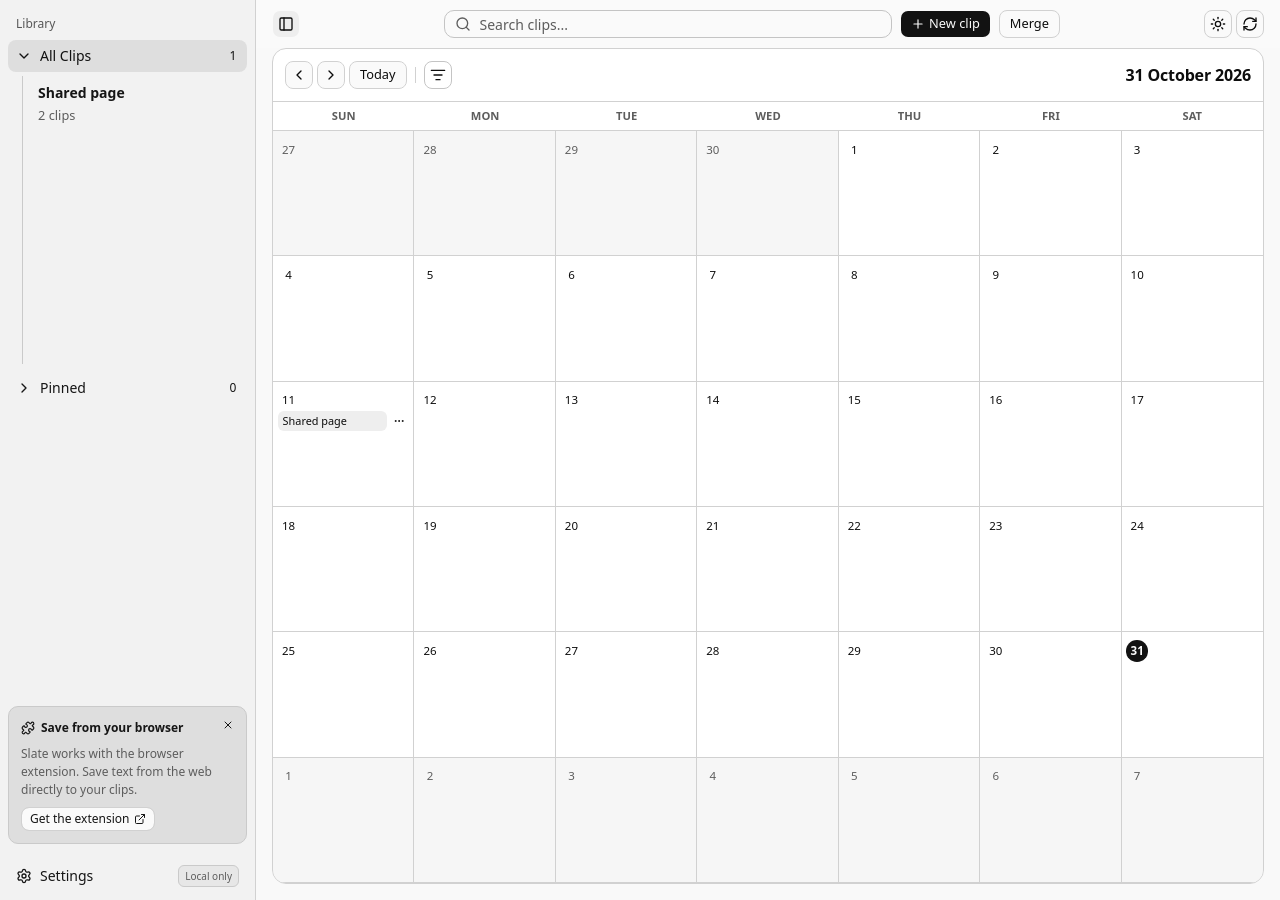
Test: member Edit reuses the full dialog and preserves group identity and title
Click the button with aria-label "Open Shared page". click: click(332, 421)
box: [278,411,387,431]
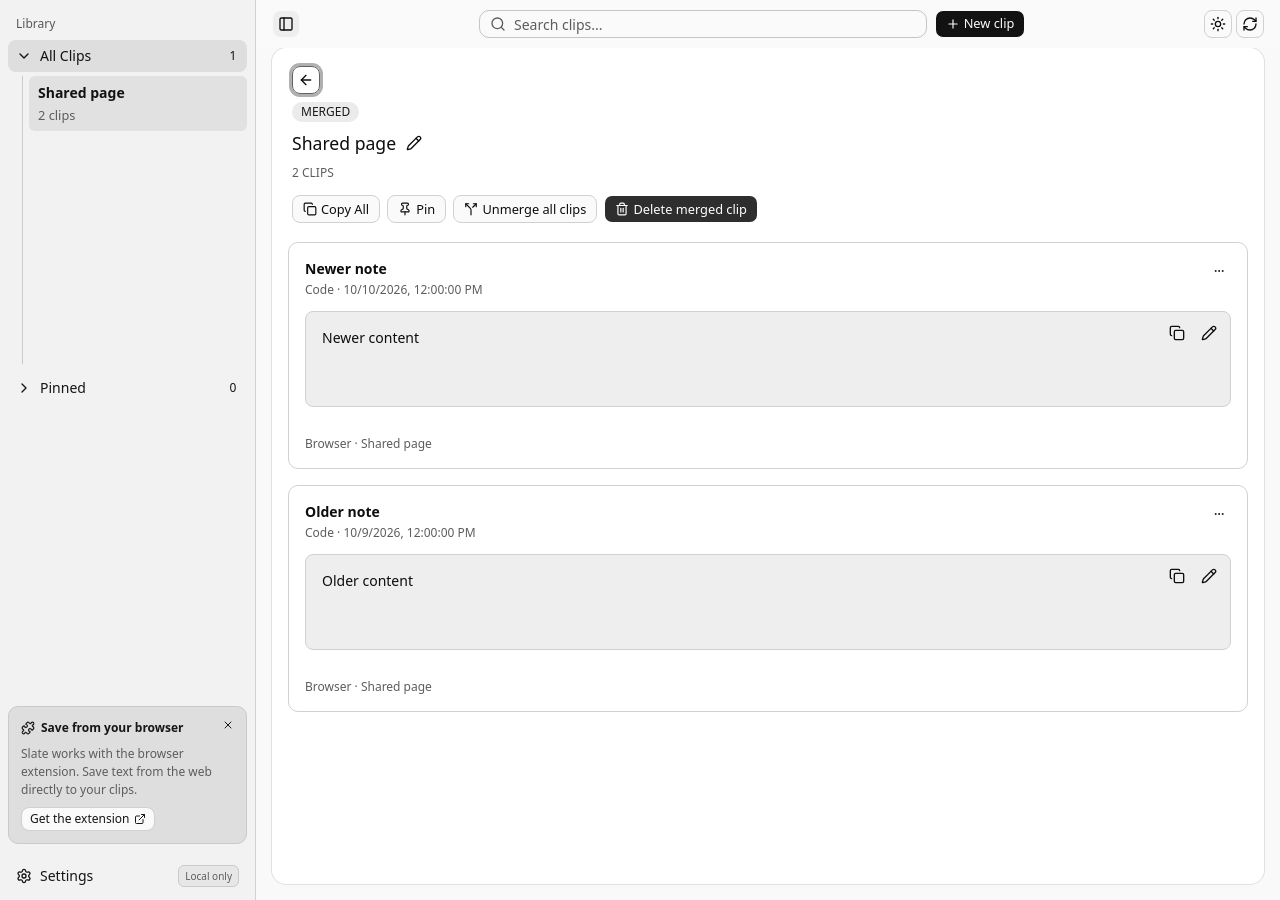
Click the button named "Actions for Older note". click: click(1219, 514)
box: [1207,502,1231,526]
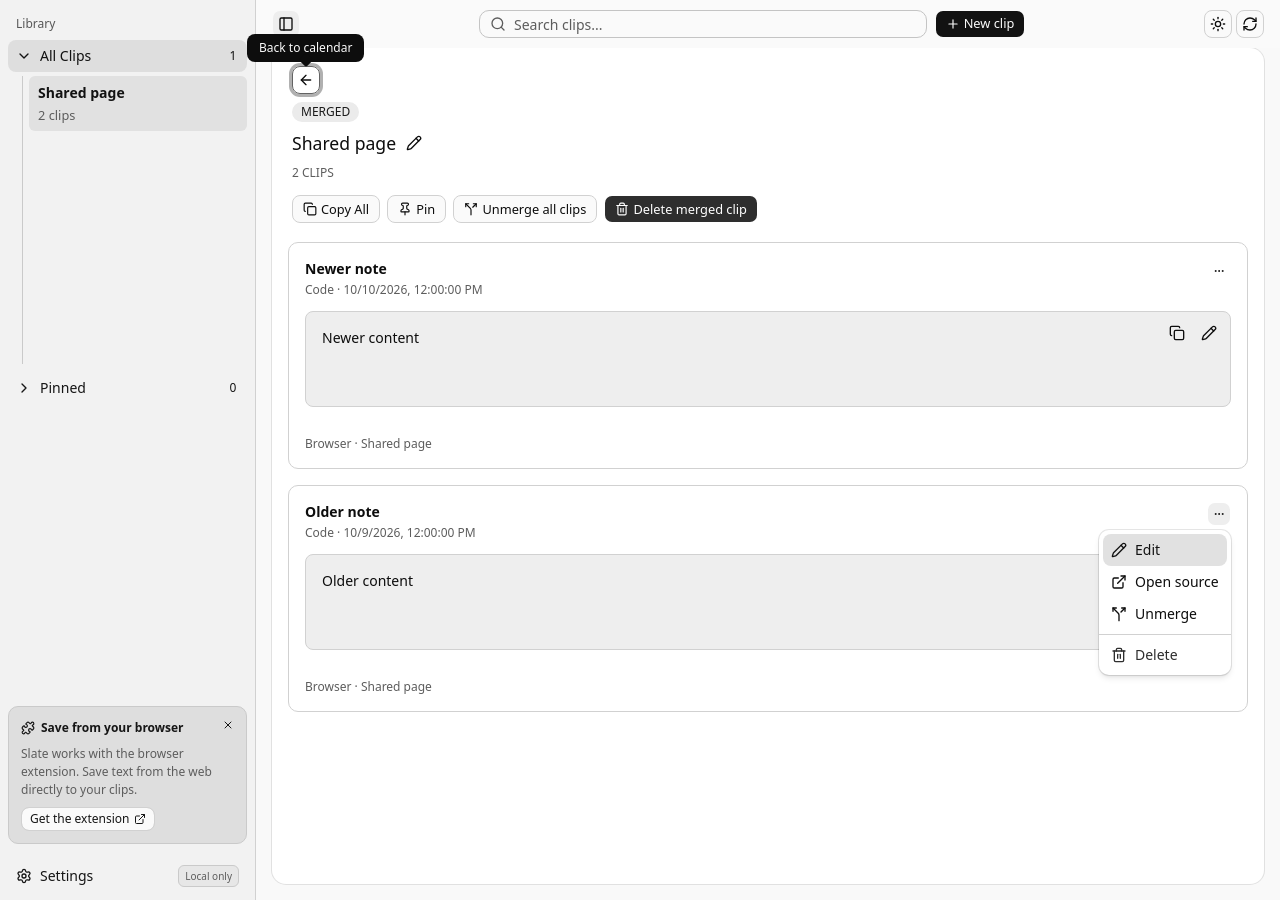
Click the menu item "Edit". click: click(1165, 550)
box: [1103,534,1227,566]
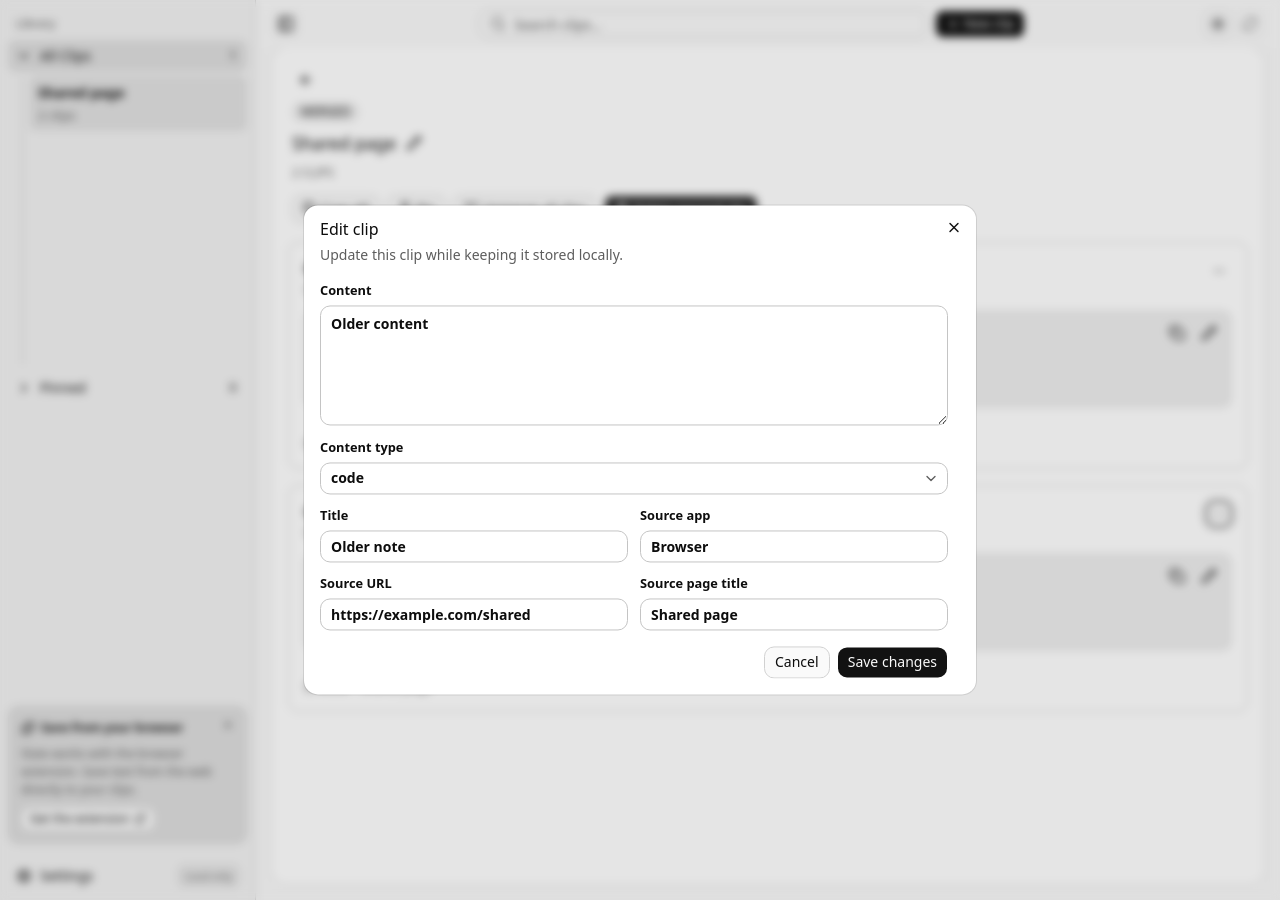
Expected: the text box labelled "Content" holds "Older content"
Replace the text in the text box labelled "Content" with "Updated member". click: (634, 365)
box: [320,305,948,425]
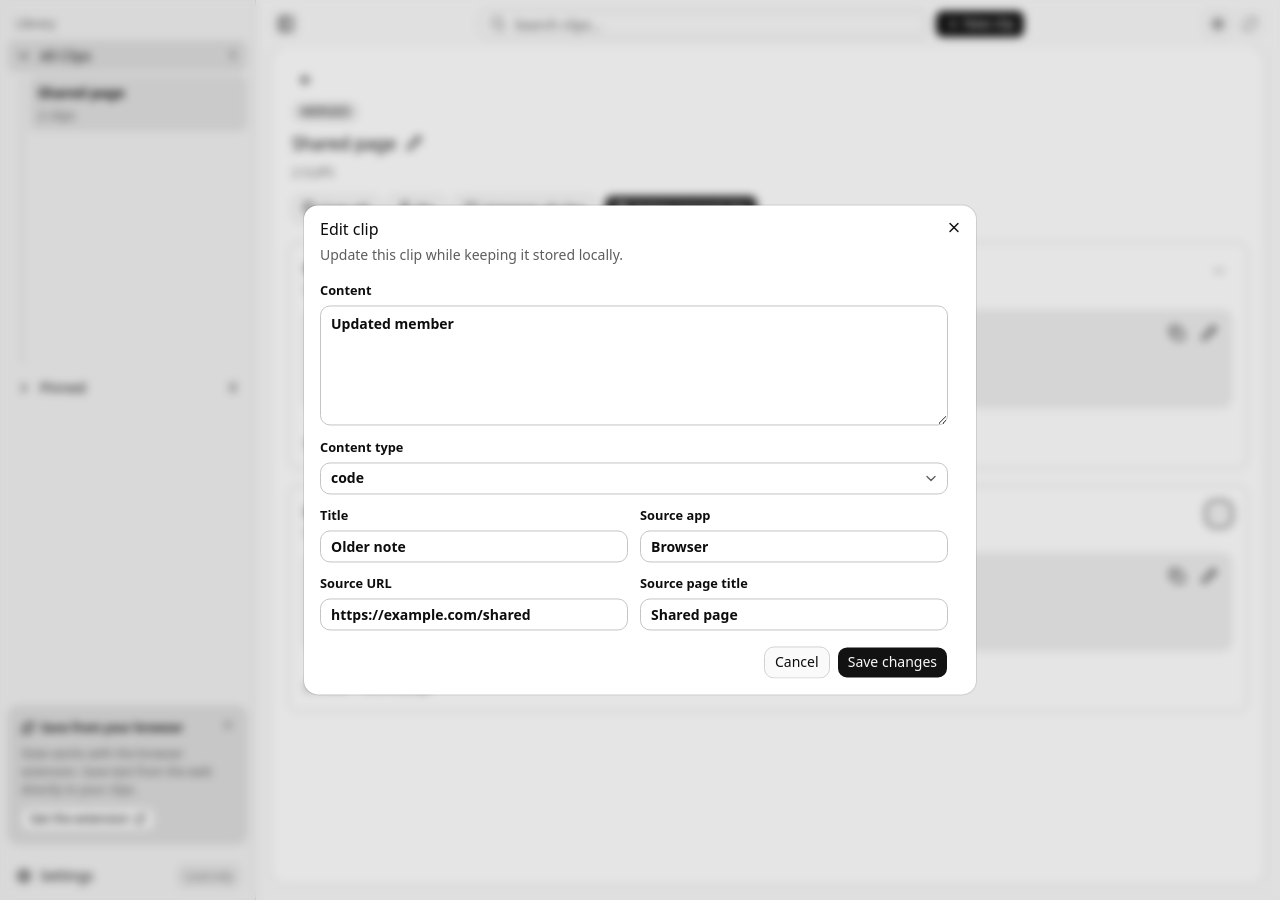
Click the button "Save changes". click: click(892, 662)
box: [837,646,948,678]
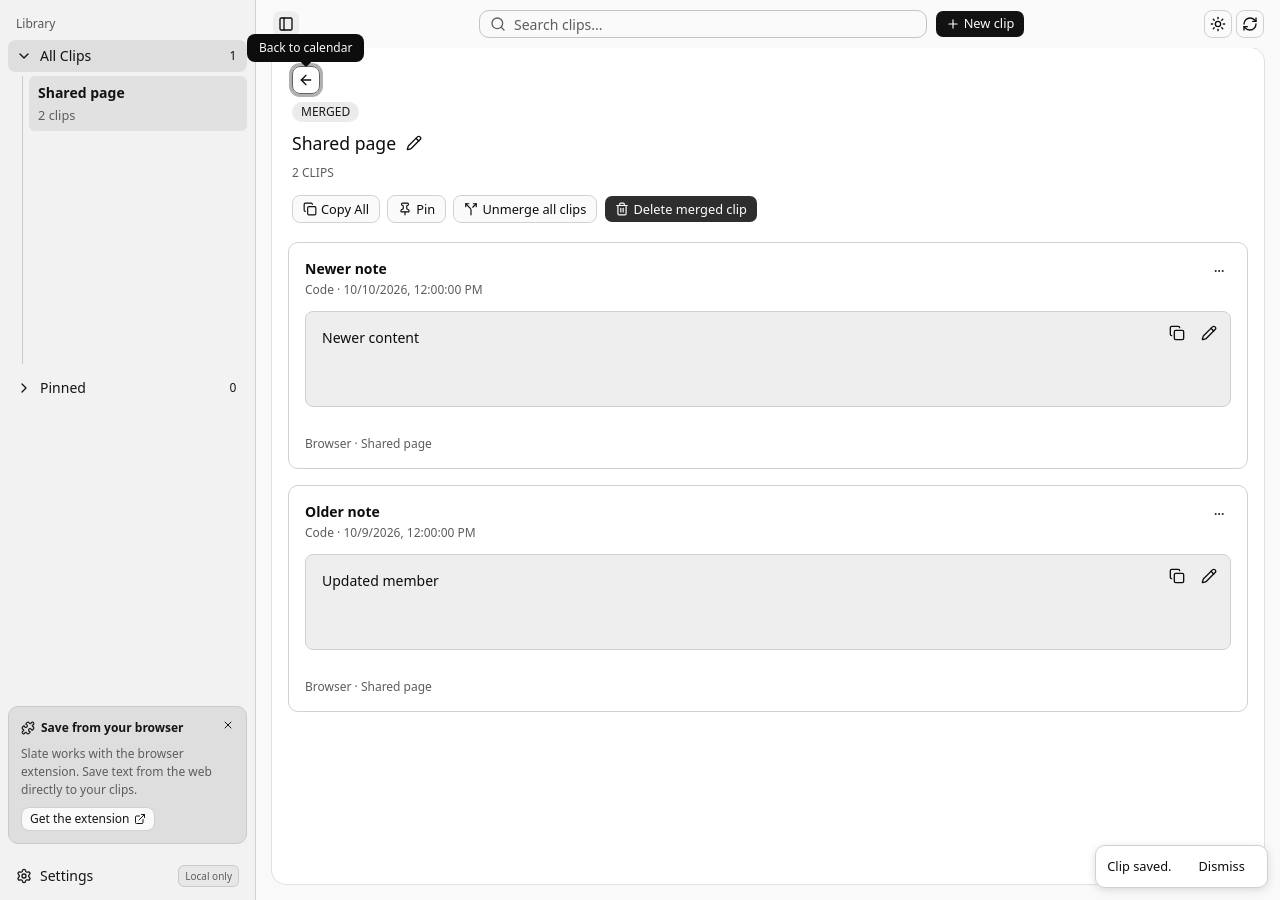
Expected: the heading "Shared page" is shown, [292,131,396,155]
Expected: the dialog is gone
Expected: the text "Updated member" is shown, [305,554,1231,650]
